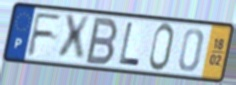0: (148, 22, 175, 74), (177, 27, 205, 74)
B: (83, 15, 120, 67)
F: (26, 11, 64, 58)
L: (117, 21, 141, 68)
X: (57, 13, 92, 63)
